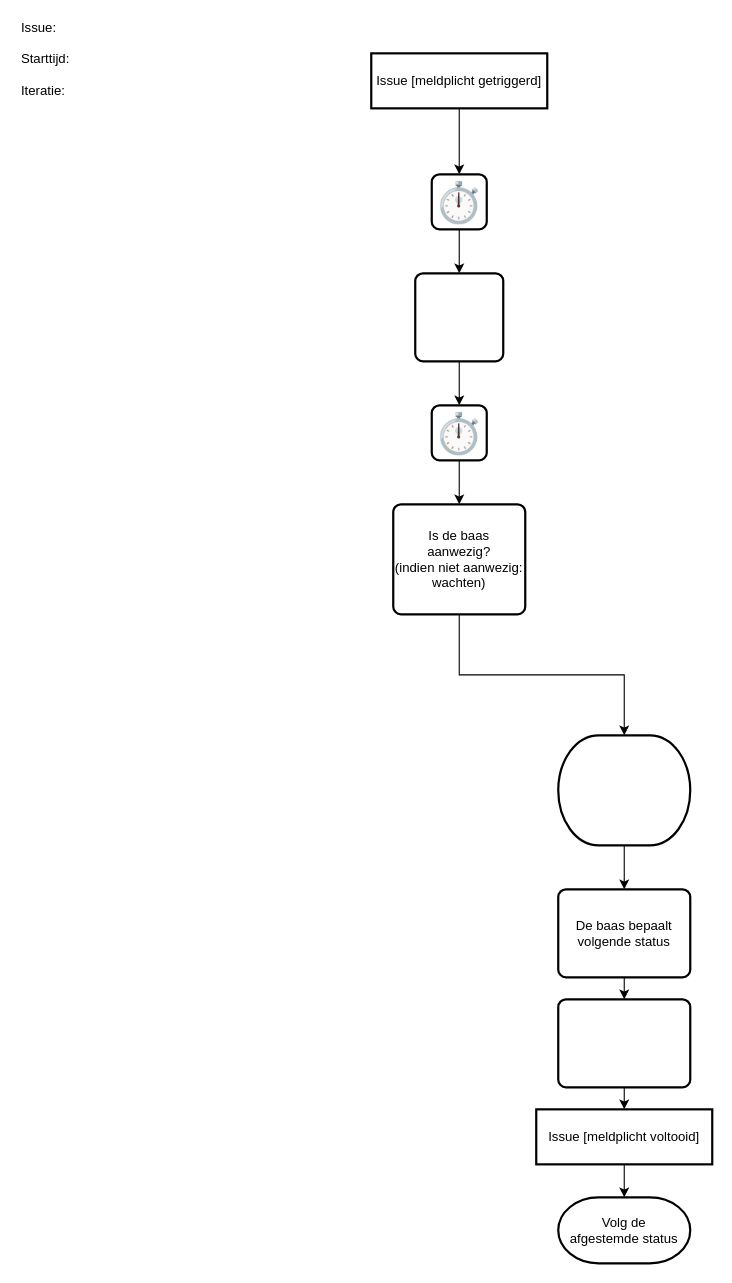
This 732x1283 diagram has some shape labels left out. Here are the shapes that lost their labels. From the top down, the centre of each, then its label:
At pixel 459 317: "Stel vervolgplan op".
At pixel 624 790: "Overleg vervolgplan".
At pixel 624 1043: "De baas verifieert effort per resterende fase".
